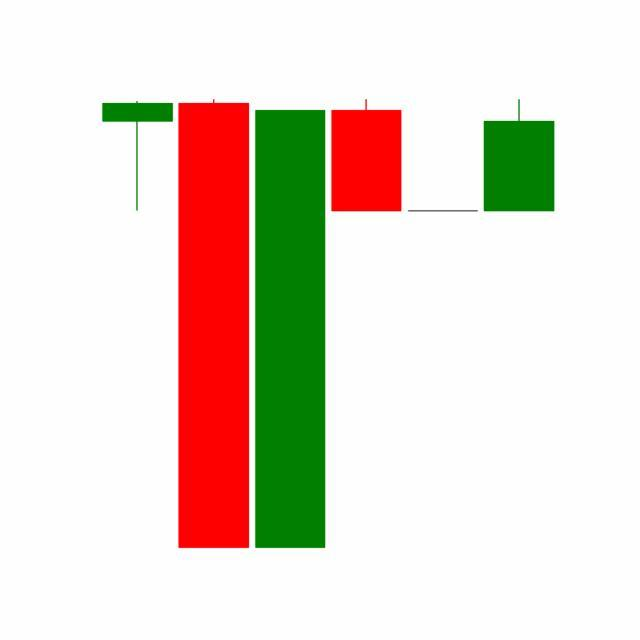Hammer: (404, 210, 482, 212)
